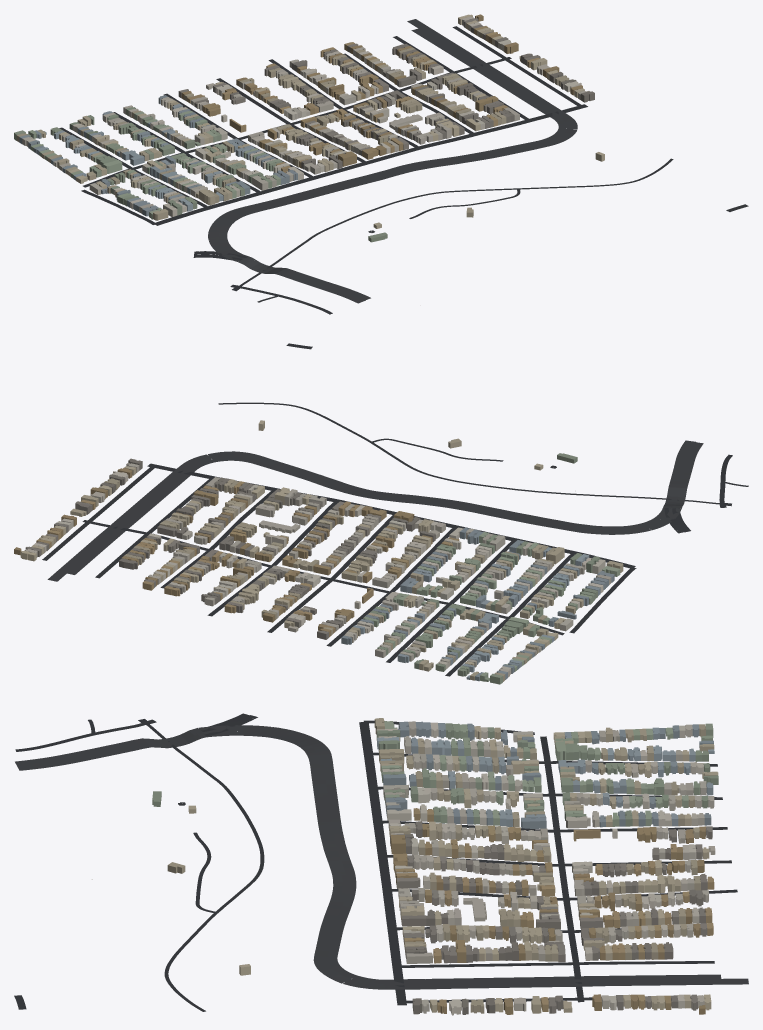
File: tile_5_13.glb
The picture shows the model from 3 angles, top to bottom: view 1: azimuth 30°, elevation 25°; view 2: azimuth 150°, elevation 25°; view 3: azimuth 270°, elevation 25°; orthographic projection. The views are drawn at different scales.
Parts seen in each view (by area): view 1: bld_5_13, road_5_13; view 2: bld_5_13, road_5_13; view 3: bld_5_13, road_5_13.
Boxes of the visible parts, x1,y1,x2,y2 form: bld_5_13: (14, 14, 604, 242); road_5_13: (59, 19, 748, 314); bld_5_13: (14, 420, 623, 684); road_5_13: (42, 343, 748, 676); bld_5_13: (152, 718, 718, 1015); road_5_13: (14, 713, 748, 1011).
Size of the model in its own units: 812 by 91.8 by 848.
